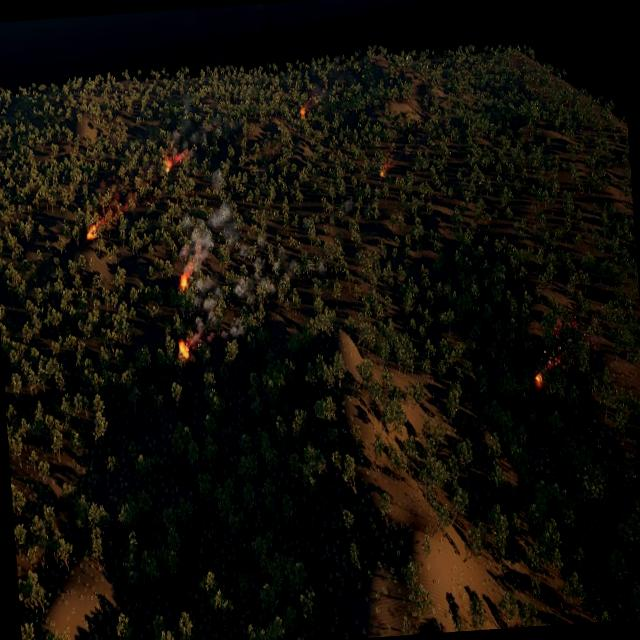fire: (166, 150, 188, 172), (177, 338, 190, 362), (547, 354, 562, 371), (178, 272, 189, 292), (86, 222, 98, 240), (379, 159, 390, 178), (534, 372, 542, 387), (299, 106, 307, 118)
smoke: (185, 258, 331, 346), (178, 200, 240, 270), (100, 190, 144, 230), (170, 115, 200, 154), (303, 82, 333, 110)
